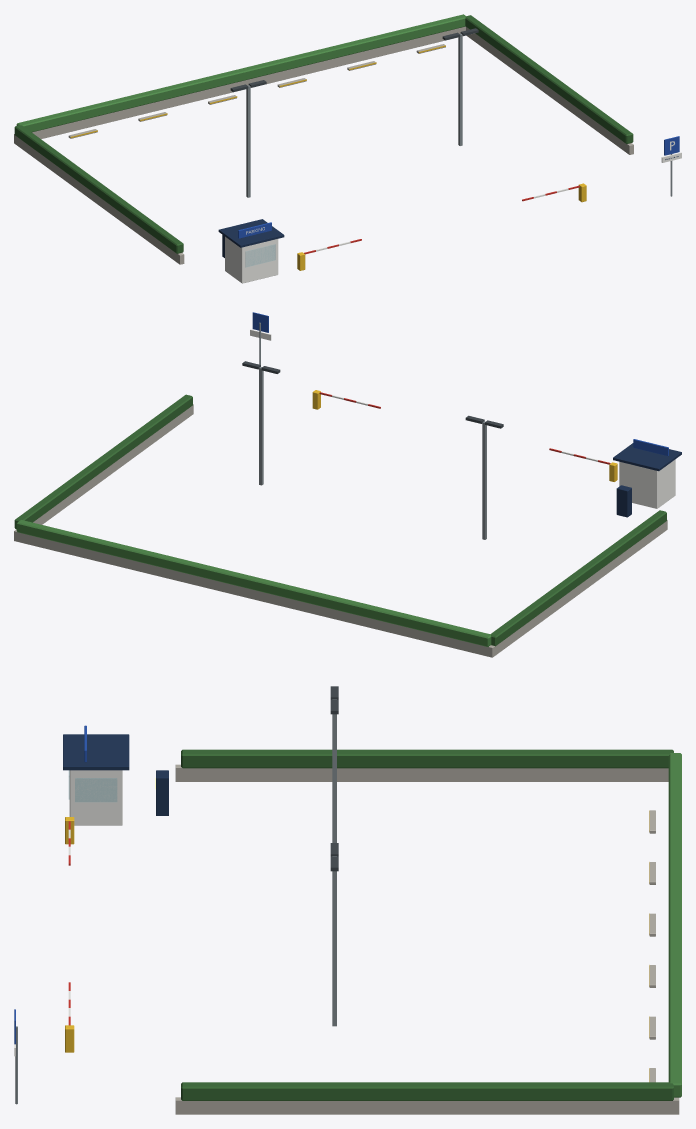
Rendered from Lugar_Estacionamiento.fbx.
3 renders of one model, top to bottom at view 1: azimuth 30°, elevation 25°; view 2: azimuth 150°, elevation 25°; view 3: azimuth 270°, elevation 25°, orthographic. The views are drawn at different scales.
Parts seen in each view (by area): view 1: Lugar_Estacionamiento; view 2: Lugar_Estacionamiento; view 3: Lugar_Estacionamiento.
Boxes of the visible parts, x1,y1,x2,y2 form: Lugar_Estacionamiento: (14,14,681,283); Lugar_Estacionamiento: (14,312,681,657); Lugar_Estacionamiento: (14,686,681,1114).
Bounding box in the file's own units: 30.2 × 7.08 × 25.2.
